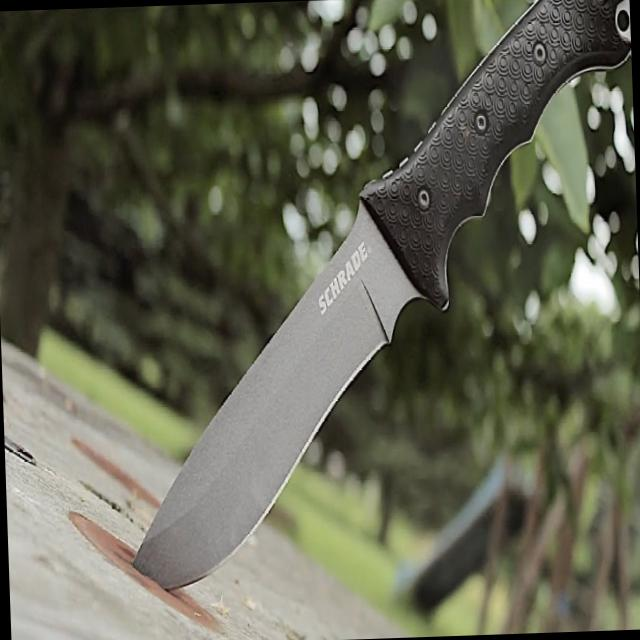knife: (109, 0, 640, 615)
